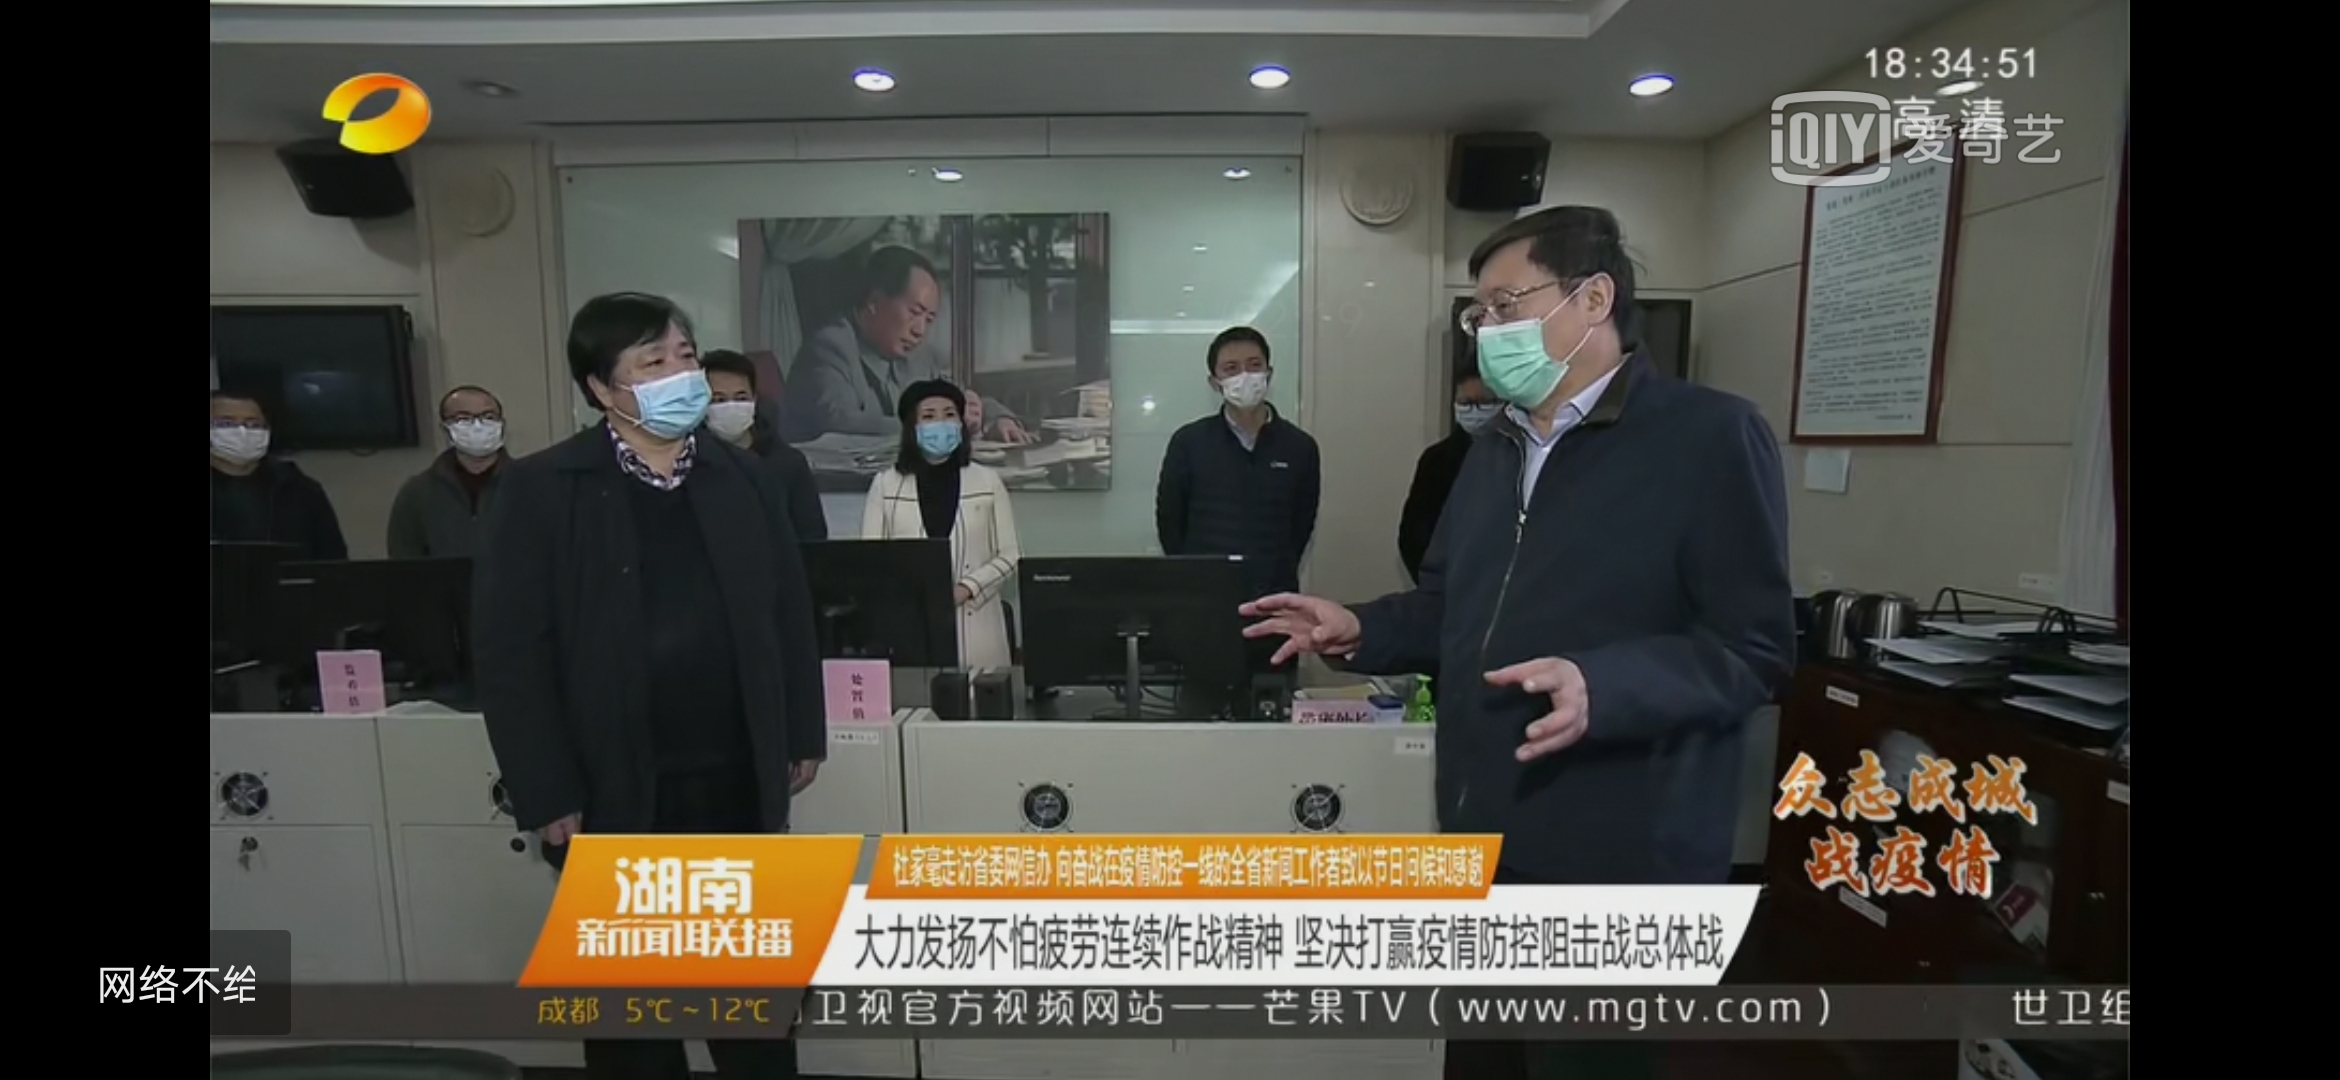correctlyWear: (1462, 266, 1624, 421), (591, 345, 707, 453), (210, 401, 273, 480), (440, 401, 507, 467), (1209, 358, 1273, 421), (701, 377, 755, 449), (916, 398, 966, 461)
noWear: (863, 274, 936, 362)
